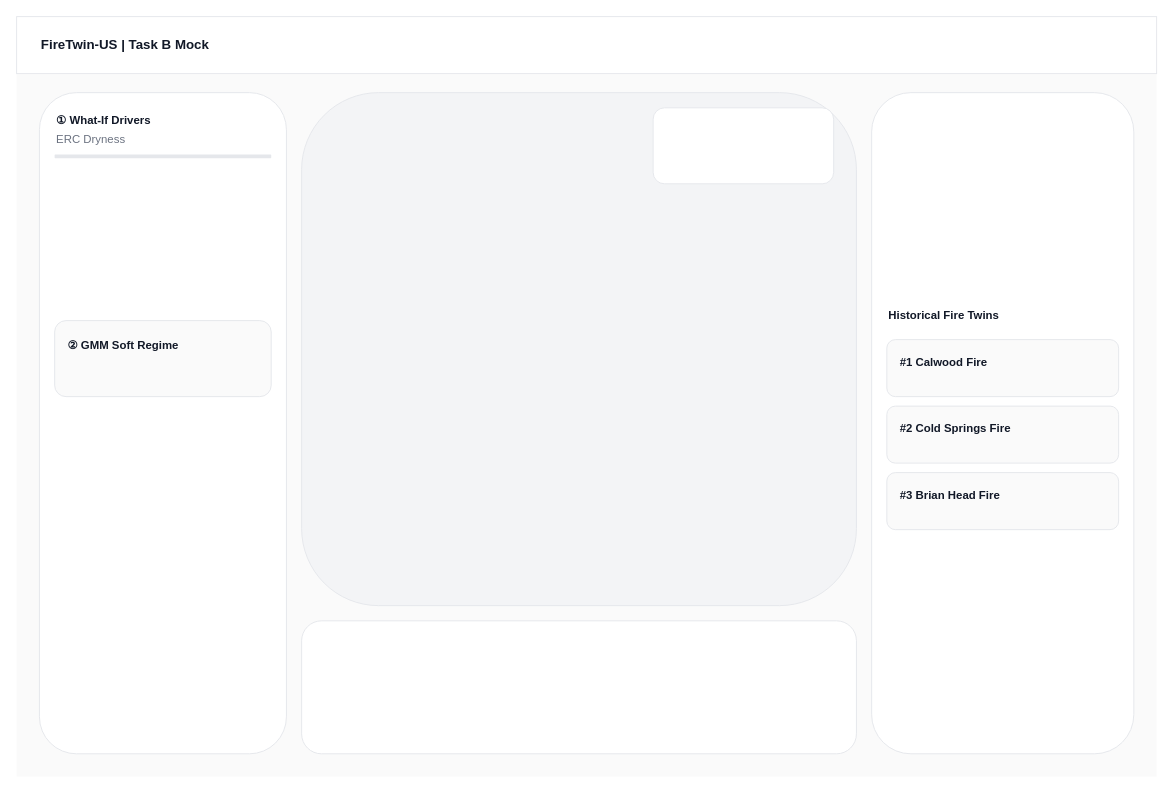
The diagram is 1173 pixels wide and 793 high, and some of its shapes have lost their labels. Here are the shapes that lost their labels. From the top down, the box of each, then its label:
(652, 107, 834, 184): ③ Bounded Lightness
(871, 92, 1134, 754): ⑤ Environmental DNA
(301, 620, 856, 754): ④ High Risk: 24% — ~1 in 4 historical fires exceeded 300 acres
